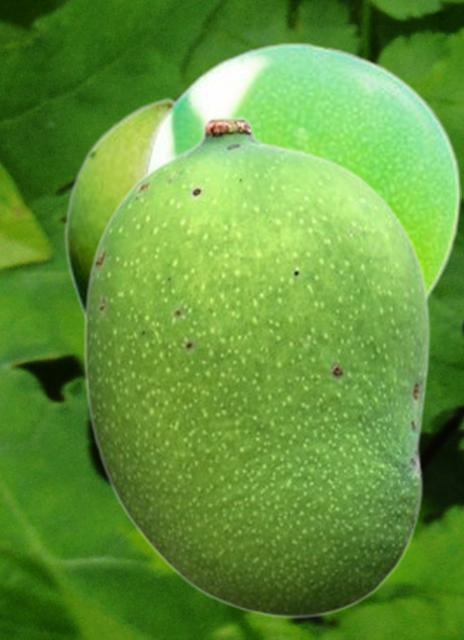green_mango: (82, 115, 429, 618), (142, 41, 460, 301), (63, 96, 176, 322)
